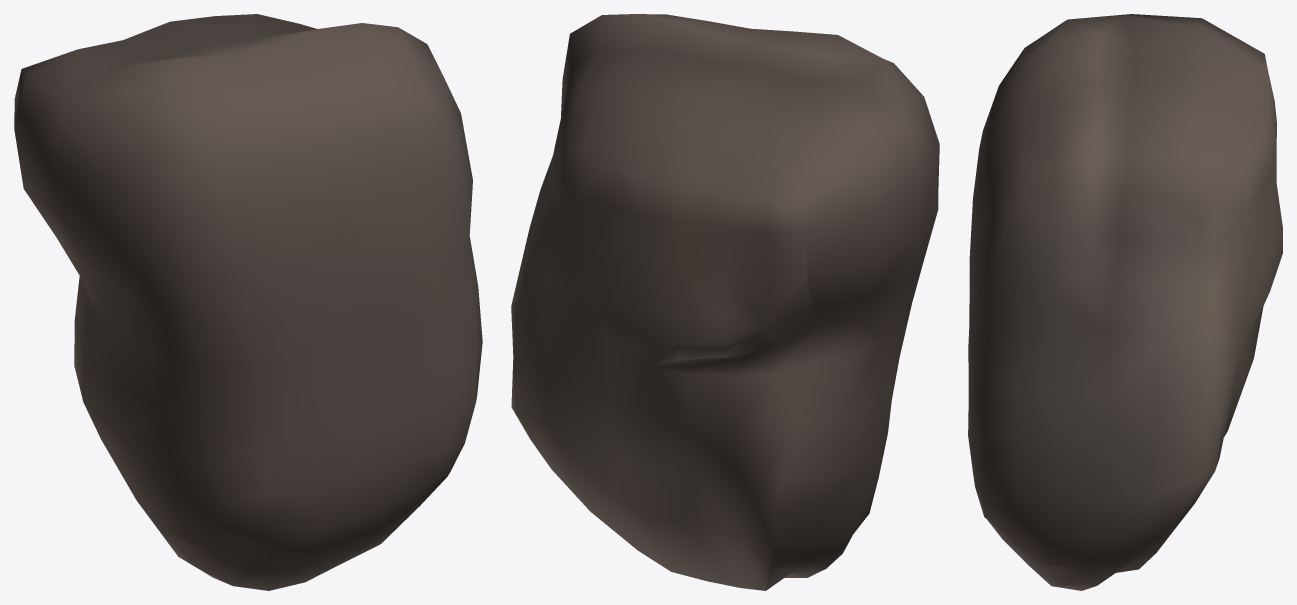
File: RockMedium.009.glb
The picture shows the model from 3 angles, left to right: view 1: azimuth 30°, elevation 25°; view 2: azimuth 150°, elevation 25°; view 3: azimuth 270°, elevation 25°; orthographic projection. The views are drawn at different scales.
Visible parts, largest first — view 1: RockMedium.009; view 2: RockMedium.009; view 3: RockMedium.009.
Part boxes in pixels (x1,y1,x2,y2): RockMedium.009: [14, 14, 482, 590]; RockMedium.009: [511, 14, 939, 590]; RockMedium.009: [968, 14, 1282, 590].
Size of the model in its own units: 311 by 413 by 238.
